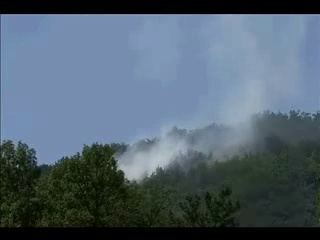smoke: (204, 19, 287, 156), (113, 121, 202, 183)
